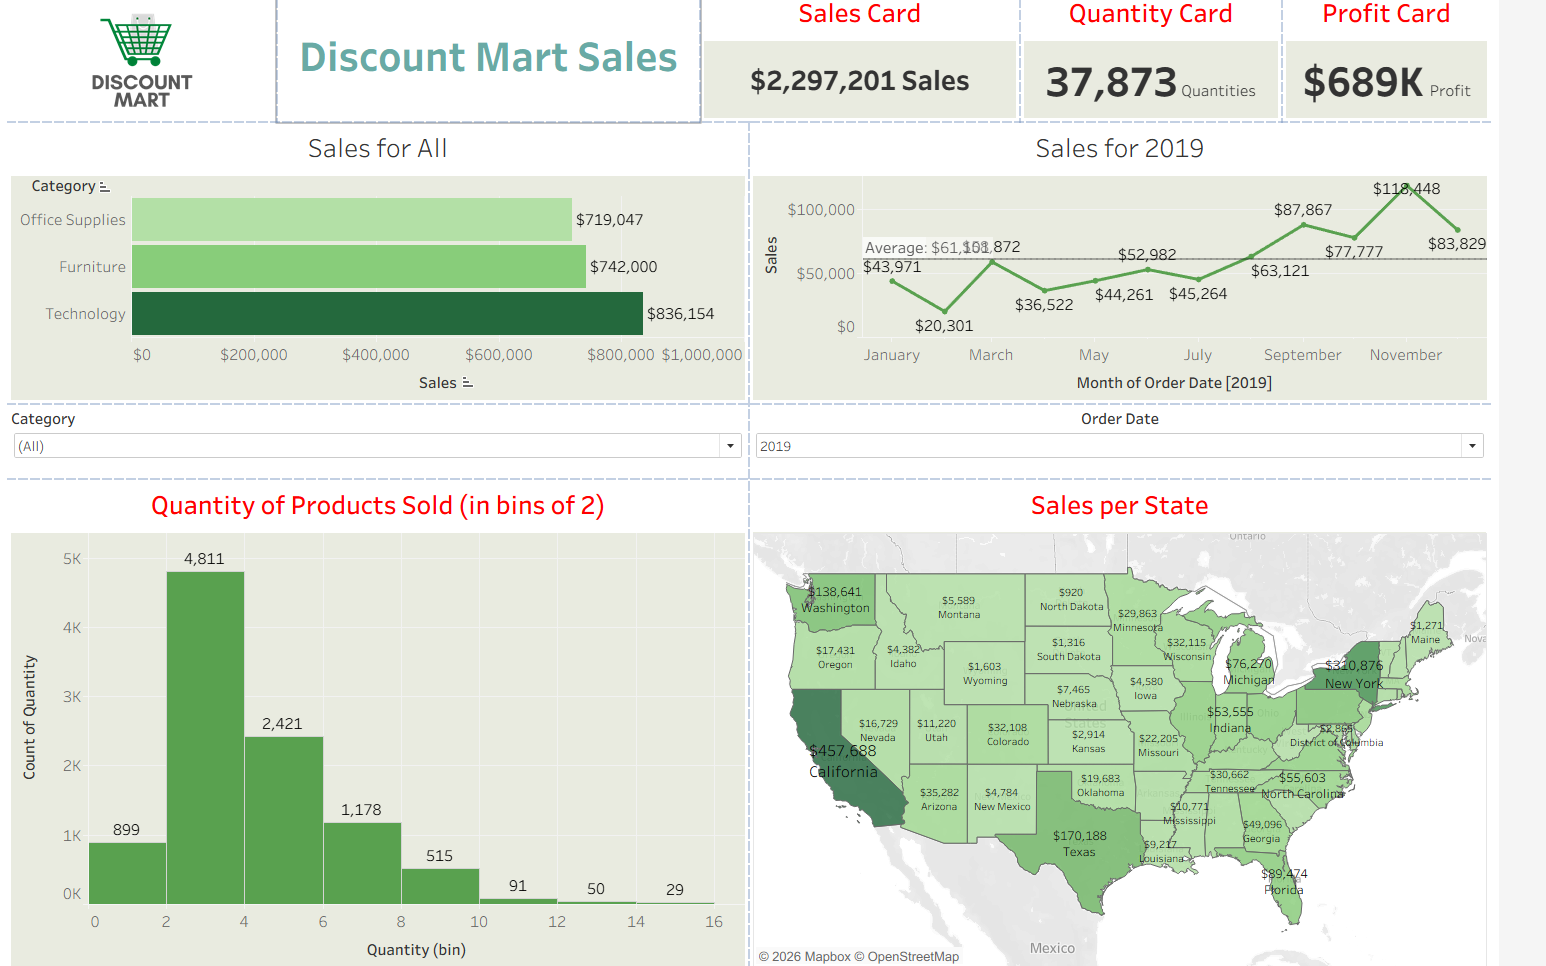

The page's visual inventory and layout, read from the dashboard file:
{"tool":"tableau","page":{"name":"Gem Sales Dashboard","canvas":[1500,1000],"ordinal":0},"visuals":[{"type":"image","param":"C:/Data/Discount+Mart+(1).png","box":[8,8,269.9,135]},{"type":"text","box":[277.9,8,423.1,135]},{"type":"worksheet","title":"Sales Card","mark":"Automatic","box":[701,8,319.9,135]},{"type":"worksheet","title":"Quantity Card","mark":"Automatic","box":[1020.9,8,262,135]},{"type":"worksheet","title":"Profit Card","mark":"Automatic","box":[1283,8,209.1,135]},{"type":"worksheet","title":"Sales By Categories","mark":"Bar","rows":["Category"],"cols":["Sales"],"box":[8,143,742,282]},{"type":"worksheet","title":"Sales By Month","mark":"Automatic","rows":["Sales"],"cols":["Order Date"],"box":[750,143,742,282]},{"type":"filter","title":"Sales By Categories","param":"[federated.0tj6o6l0u5xkpo192dubo0tc69v2].[none:Category:nk]","box":[8,425,742,75]},{"type":"filter","title":"Sales By Month","param":"[federated.0tj6o6l0u5xkpo192dubo0tc69v2].[yr:Order Date:ok]","box":[750,425,742,75]},{"type":"worksheet","title":"Quantity of Products Sold (in bins of 2)","mark":"Automatic","rows":["Quantity"],"cols":["Quantity (bin)"],"box":[8,500,742,492]},{"type":"worksheet","title":"Sales per state","mark":"Multipolygon","box":[750,500,742,492]}]}

Visuals, with their boxes on the page's 1500x1000 design canvas (x1, y1, x2, y2). These are canvas units, not pixel positions in the 1546x966 screenshot, which may show the page scaled, cropped or inside an application window:
image: (8, 8, 278, 143)
text: (278, 8, 701, 143)
"Sales Card" worksheet: (701, 8, 1021, 143)
"Quantity Card" worksheet: (1021, 8, 1283, 143)
"Profit Card" worksheet: (1283, 8, 1492, 143)
"Sales By Categories" worksheet (Bar marks): (8, 143, 750, 425)
"Sales By Month" worksheet: (750, 143, 1492, 425)
"Sales By Categories" filter: (8, 425, 750, 500)
"Sales By Month" filter: (750, 425, 1492, 500)
"Quantity of Products Sold (in bins of 2)" worksheet: (8, 500, 750, 992)
"Sales per state" worksheet (Multipolygon marks): (750, 500, 1492, 992)
